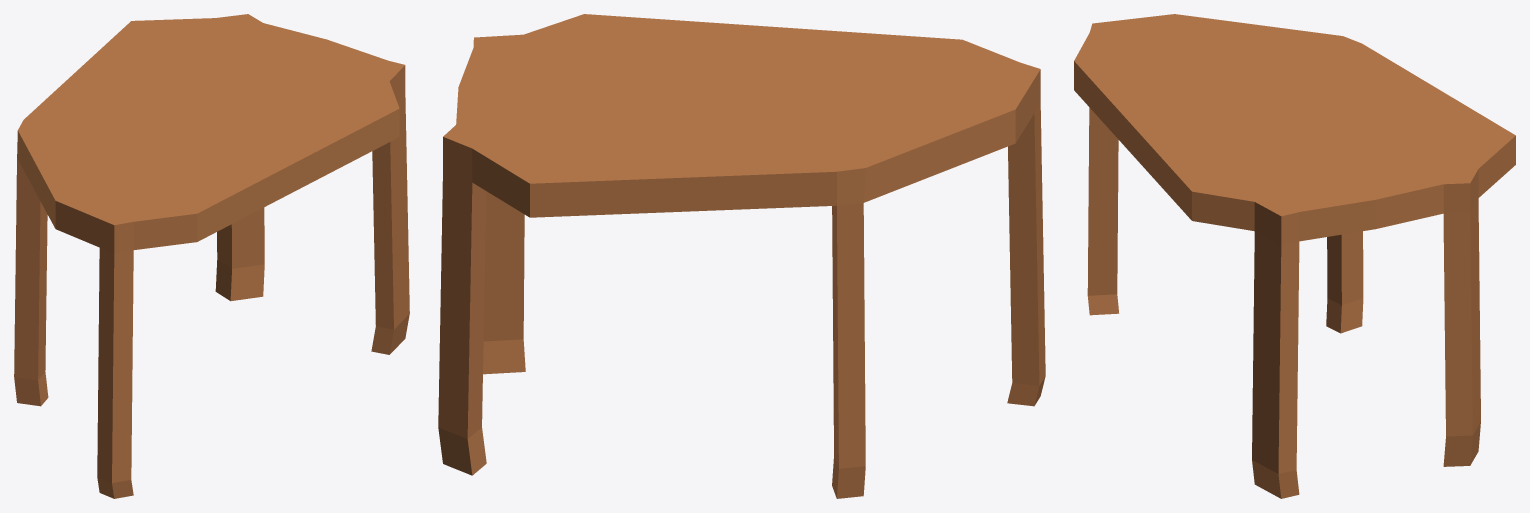
Rendered from lacune.fbx_TableMed.fbx.
3 renders of one model, left to right at view 1: azimuth 30°, elevation 25°; view 2: azimuth 150°, elevation 25°; view 3: azimuth 270°, elevation 25°, orthographic. The views are drawn at different scales.
Visible parts, largest first — view 1: TableMed; view 2: TableMed; view 3: TableMed.
Part boxes in pixels (x1,y1,x2,y2): TableMed: [14, 14, 409, 498]; TableMed: [438, 14, 1045, 498]; TableMed: [1074, 14, 1515, 498].
Size of what is drawn, in the model's own units: 86.47 by 55.9 by 79.19.
